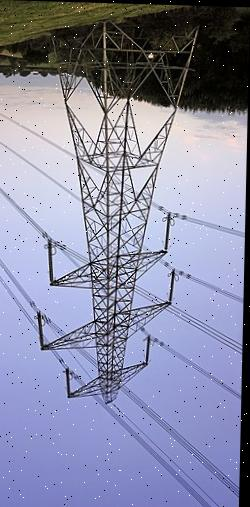tower: (33, 18, 202, 443)
